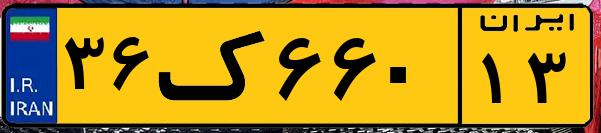0: (385, 28, 445, 110)
1: (475, 38, 525, 113)
3: (57, 26, 110, 100), (525, 38, 570, 115)
6: (270, 28, 330, 110), (330, 28, 385, 110), (110, 28, 158, 98)
ک: (158, 12, 270, 120)
